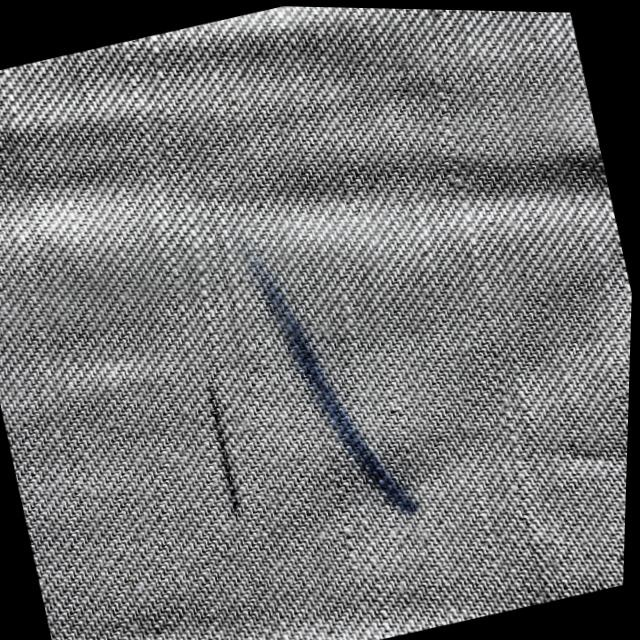Hole: (192, 374, 256, 518)
